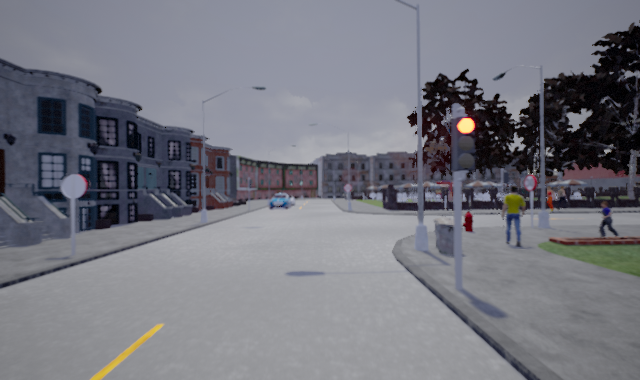pedestrian: (498, 184, 527, 247), (596, 197, 619, 238)
vehicle: (268, 192, 292, 210)
